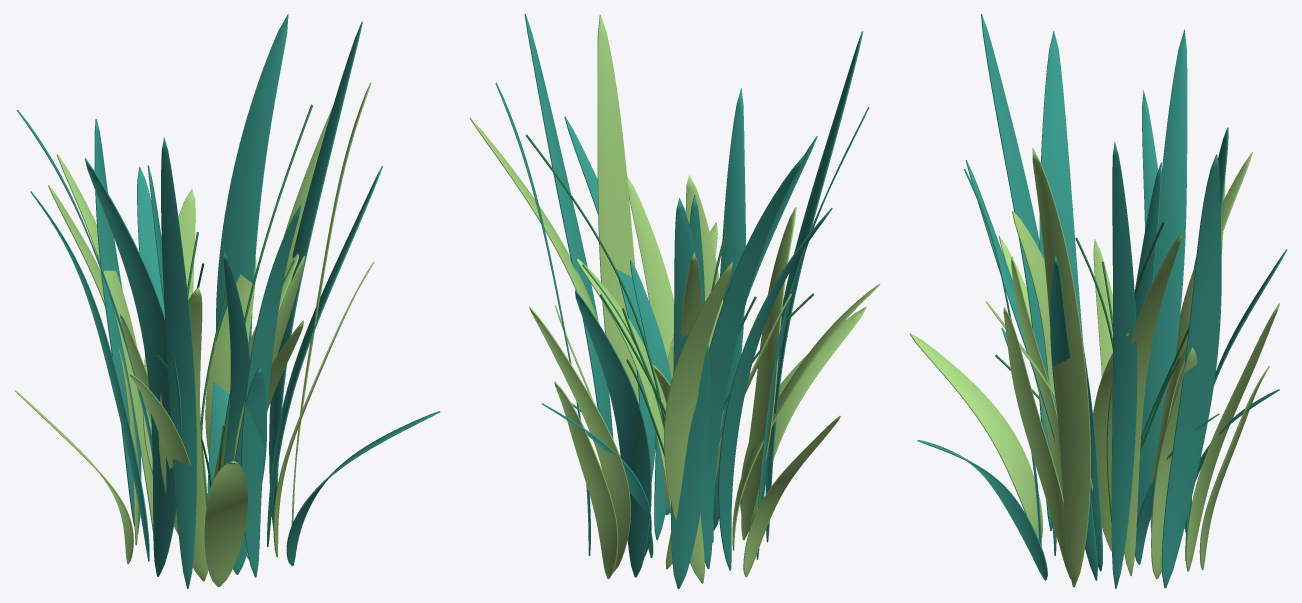
The model's file is weeds.glb.
3 renders of one model, left to right at view 1: azimuth 30°, elevation 25°; view 2: azimuth 150°, elevation 25°; view 3: azimuth 270°, elevation 25°, orthographic. The views are drawn at different scales.
Visible parts, largest first — view 1: RibbonGrass_34, RibbonGrass_30, RibbonGrass_26, RibbonGrass_24, RibbonGrass_29, RibbonGrass_22, RibbonGrass_28, RibbonGrass_08, RibbonGrass_15, RibbonGrass_21, RibbonGrass_18, RibbonGrass_14 (+19 smaller); view 2: RibbonGrass_27, RibbonGrass_28, RibbonGrass_10, RibbonGrass_23, RibbonGrass_20, RibbonGrass_18, RibbonGrass_21, RibbonGrass_22, RibbonGrass_25, RibbonGrass_33, RibbonGrass_24, RibbonGrass_34 (+17 smaller); view 3: RibbonGrass_30, RibbonGrass_27, RibbonGrass_10, RibbonGrass_22, RibbonGrass_26, RibbonGrass_34, RibbonGrass_29, RibbonGrass_19, RibbonGrass_09, RibbonGrass_25, RibbonGrass_01, RibbonGrass_17 (+16 smaller).
Boxes of the visible parts, x1=… form: RibbonGrass_34: x1=161, y1=137, x2=197, y2=588; RibbonGrass_30: x1=216, y1=14, x2=288, y2=344; RibbonGrass_26: x1=84, y1=158, x2=181, y2=576; RibbonGrass_24: x1=241, y1=205, x2=301, y2=577; RibbonGrass_29: x1=204, y1=460, x2=248, y2=586; RibbonGrass_22: x1=269, y1=21, x2=362, y2=530; RibbonGrass_28: x1=94, y1=119, x2=141, y2=533; RibbonGrass_08: x1=223, y1=251, x2=249, y2=465; RibbonGrass_15: x1=57, y1=154, x2=153, y2=532; RibbonGrass_21: x1=158, y1=287, x2=208, y2=581; RibbonGrass_18: x1=30, y1=191, x2=149, y2=561; RibbonGrass_14: x1=267, y1=165, x2=382, y2=546; RibbonGrass_27: x1=597, y1=14, x2=639, y2=432; RibbonGrass_28: x1=671, y1=197, x2=710, y2=588; RibbonGrass_10: x1=700, y1=156, x2=804, y2=568; RibbonGrass_23: x1=664, y1=261, x2=732, y2=583; RibbonGrass_20: x1=575, y1=290, x2=651, y2=577; RibbonGrass_18: x1=718, y1=208, x2=832, y2=570; RibbonGrass_21: x1=741, y1=207, x2=796, y2=540; RibbonGrass_22: x1=524, y1=14, x2=613, y2=438; RibbonGrass_25: x1=529, y1=306, x2=630, y2=572; RibbonGrass_33: x1=554, y1=381, x2=618, y2=579; RibbonGrass_24: x1=720, y1=88, x2=745, y2=354; RibbonGrass_34: x1=765, y1=31, x2=863, y2=542; RibbonGrass_30: x1=1161, y1=154, x2=1221, y2=587; RibbonGrass_27: x1=1032, y1=148, x2=1090, y2=587; RibbonGrass_10: x1=1137, y1=29, x2=1187, y2=520; RibbonGrass_22: x1=1111, y1=141, x2=1137, y2=588; RibbonGrass_26: x1=1039, y1=31, x2=1083, y2=345; RibbonGrass_34: x1=981, y1=14, x2=1052, y2=530; RibbonGrass_29: x1=909, y1=333, x2=1042, y2=539; RibbonGrass_19: x1=1003, y1=307, x2=1070, y2=578; RibbonGrass_09: x1=1124, y1=233, x2=1181, y2=575; RibbonGrass_25: x1=1186, y1=303, x2=1279, y2=571; RibbonGrass_01: x1=1093, y1=332, x2=1128, y2=551; RibbonGrass_17: x1=1151, y1=347, x2=1197, y2=578.
Size of the model in its own units: 2.5 by 3.37 by 2.35.
